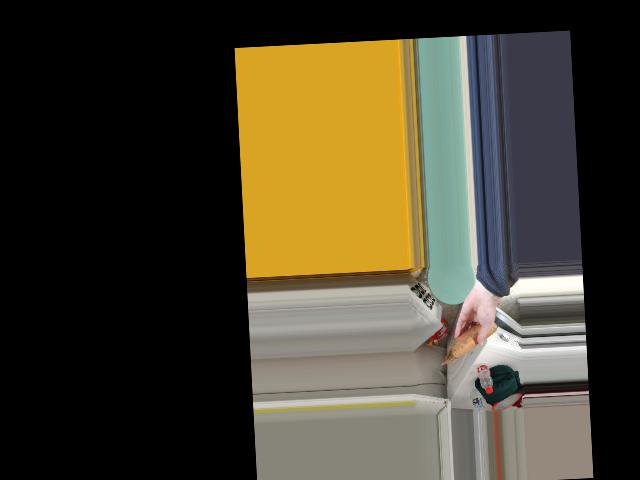sweet_potato: (458, 316, 496, 350)
